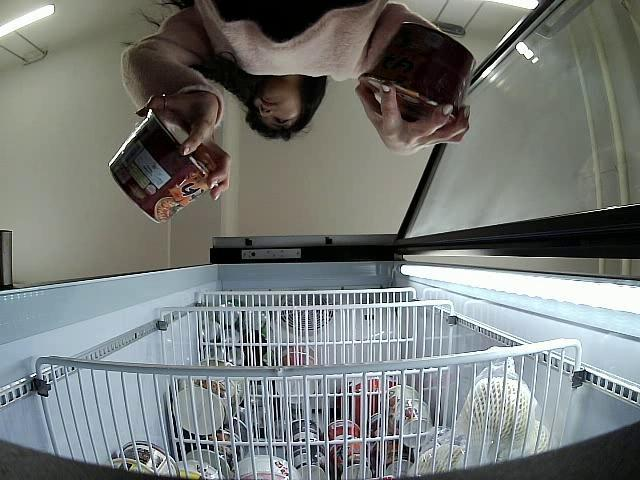05_nuguri_L: (354, 20, 478, 122), (108, 109, 212, 224)
